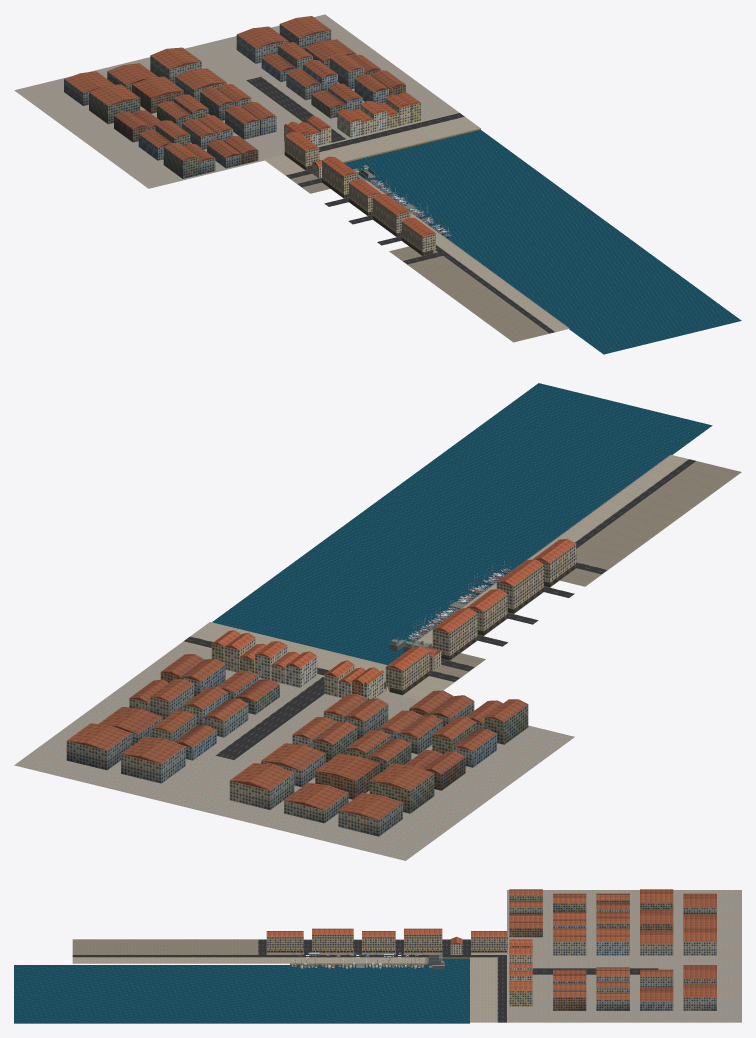
File: lugar-marsella.glb
3 renders of one model, top to bottom at view 1: azimuth 30°, elevation 25°; view 2: azimuth 150°, elevation 25°; view 3: azimuth 270°, elevation 25°, orthographic. The views are drawn at different scales.
Visible parts, largest first — view 1: planoE, vert-fondo, luzG-cerca, luzE, vert-cerca; view 2: planoE, vert-fondo, luzG-cerca, luzE, vert-cerca; view 3: planoE, luzG-cerca, vert-fondo, luzE, suelo-muelle, vert-cerca.
Boxes of the visible parts, bbox=[...] form: planoE: bbox=[344, 130, 741, 354]; vert-fondo: bbox=[64, 16, 405, 178]; luzG-cerca: bbox=[14, 14, 569, 342]; luzE: bbox=[284, 92, 480, 255]; vert-cerca: bbox=[368, 171, 451, 237]; planoE: bbox=[212, 383, 712, 664]; vert-fondo: bbox=[66, 654, 528, 836]; luzG-cerca: bbox=[14, 454, 741, 860]; luzE: bbox=[211, 538, 576, 699]; vert-cerca: bbox=[408, 560, 511, 640]; planoE: bbox=[14, 949, 469, 1023]; luzG-cerca: bbox=[72, 890, 741, 1022]; vert-fondo: bbox=[509, 889, 716, 1010]; luzE: bbox=[266, 928, 532, 1006]; suelo-muelle: bbox=[290, 952, 427, 963]; vert-cerca: bbox=[291, 949, 423, 968].
Size of the model in its own units: 375 by 30.1 by 870.
53 materials, 17 textured.
